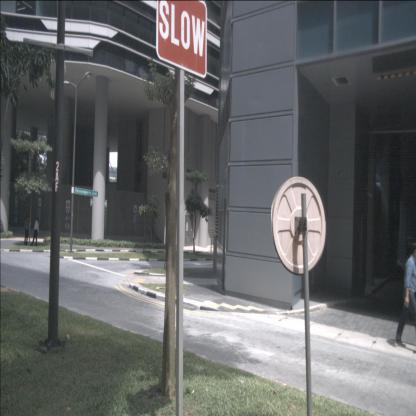cone: (210, 240, 212, 252)
